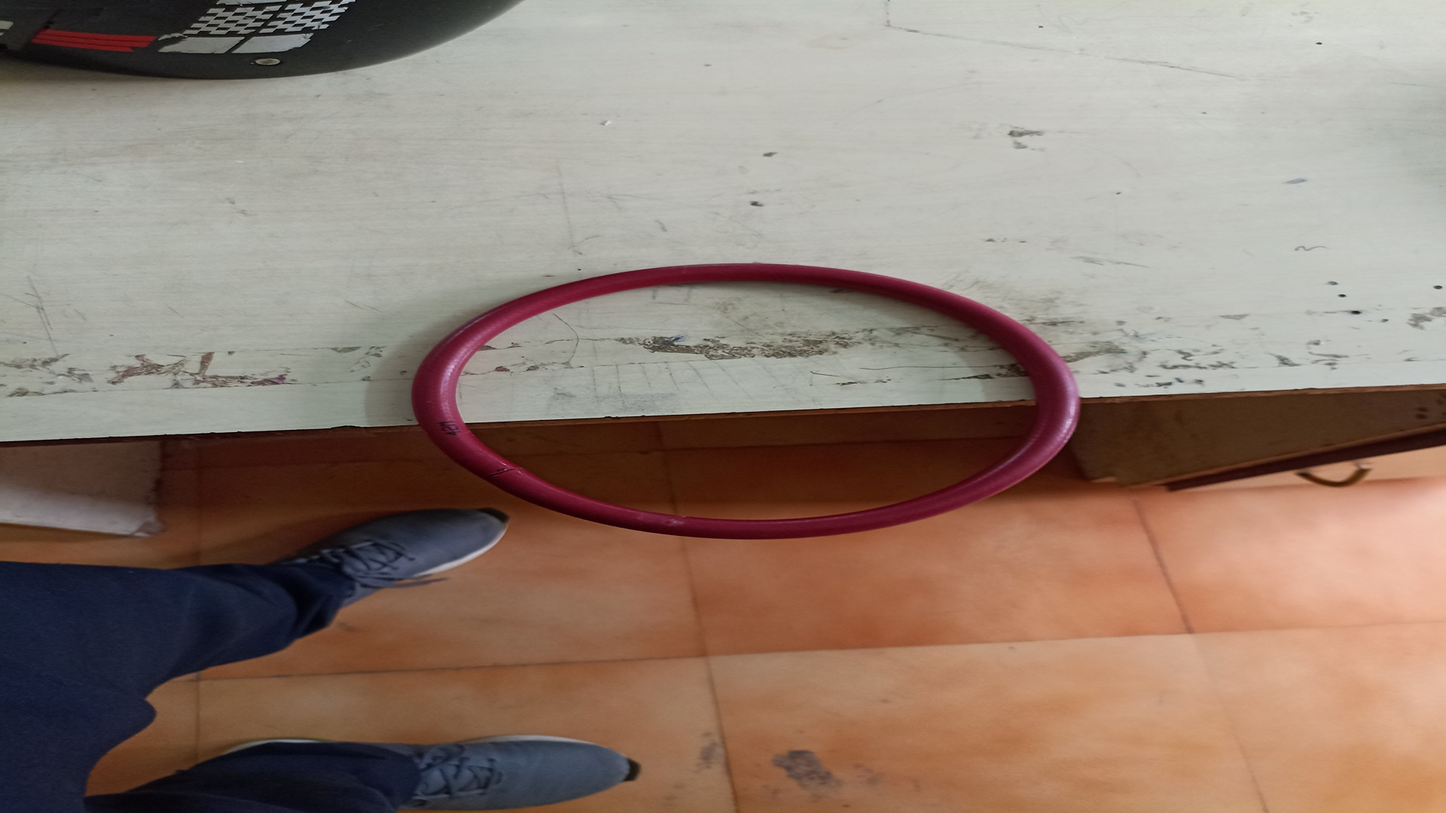Red ring: (407, 259, 1081, 544)
